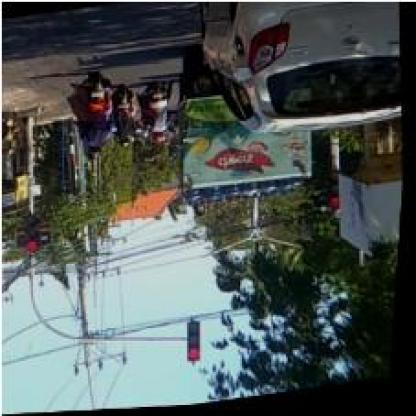red: (27, 211, 43, 254), (190, 322, 206, 363), (330, 174, 344, 216)
